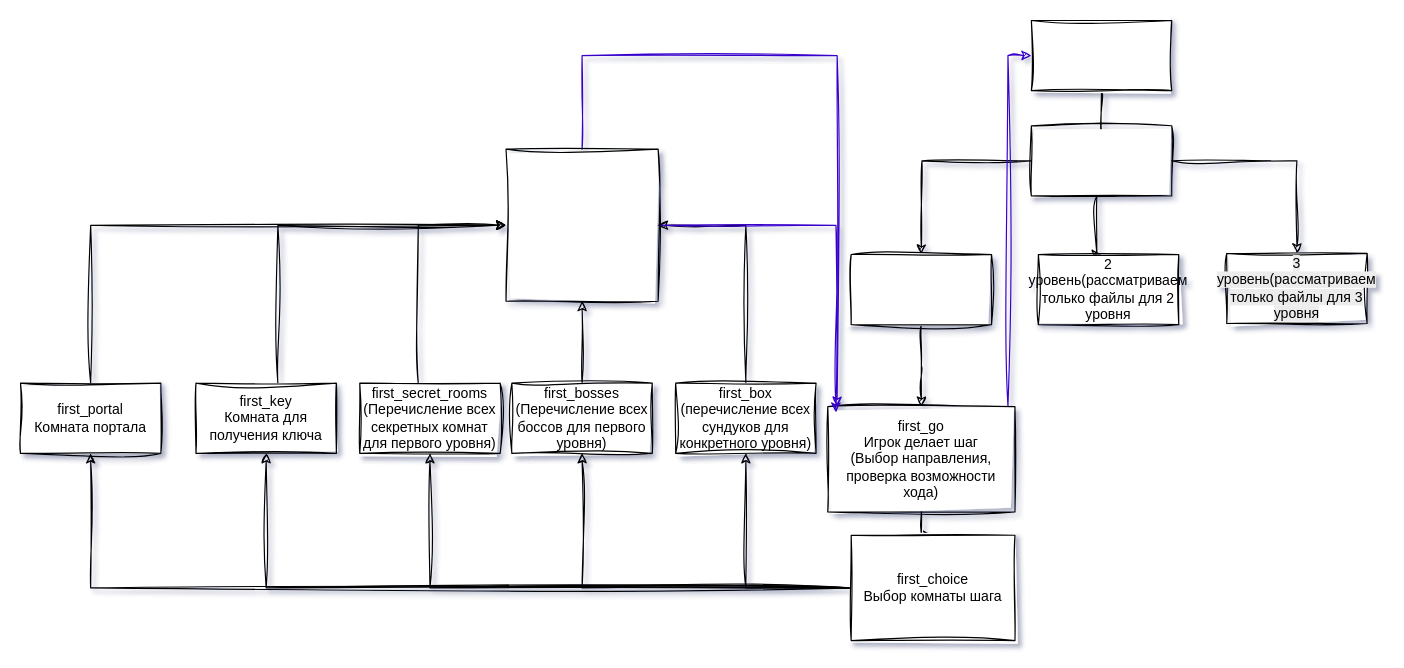
Image size: 1404x668. Some labels were removed from this diagram. The centre of each missing label's shape, as x and y in pixels:
1 уровень(рассматриваем только файлы для 1 уровня: point 921,289
First_itog Подведение итогов шага("Этот блок сейчас пропускается): point 581,224
Generate Генерация уровня в зависимости от сложности: point 1101,160
Start_window Стартовое окно Выбор уровня: point 1101,55
